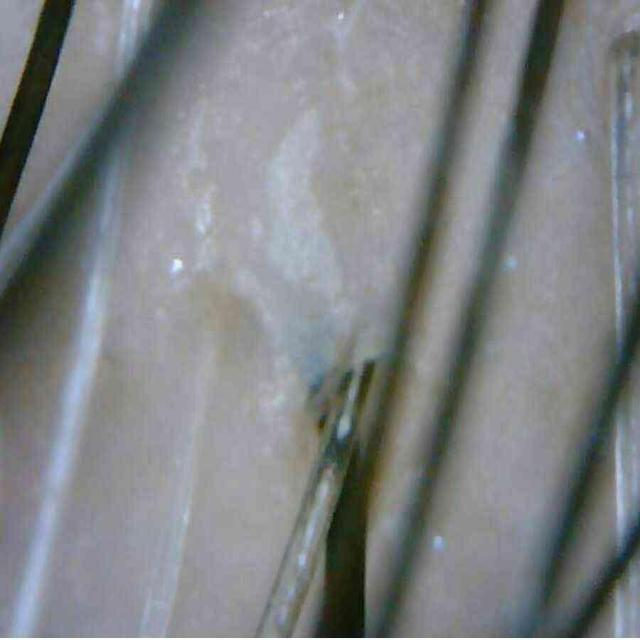ds: (264, 92, 352, 304), (162, 134, 230, 296)
